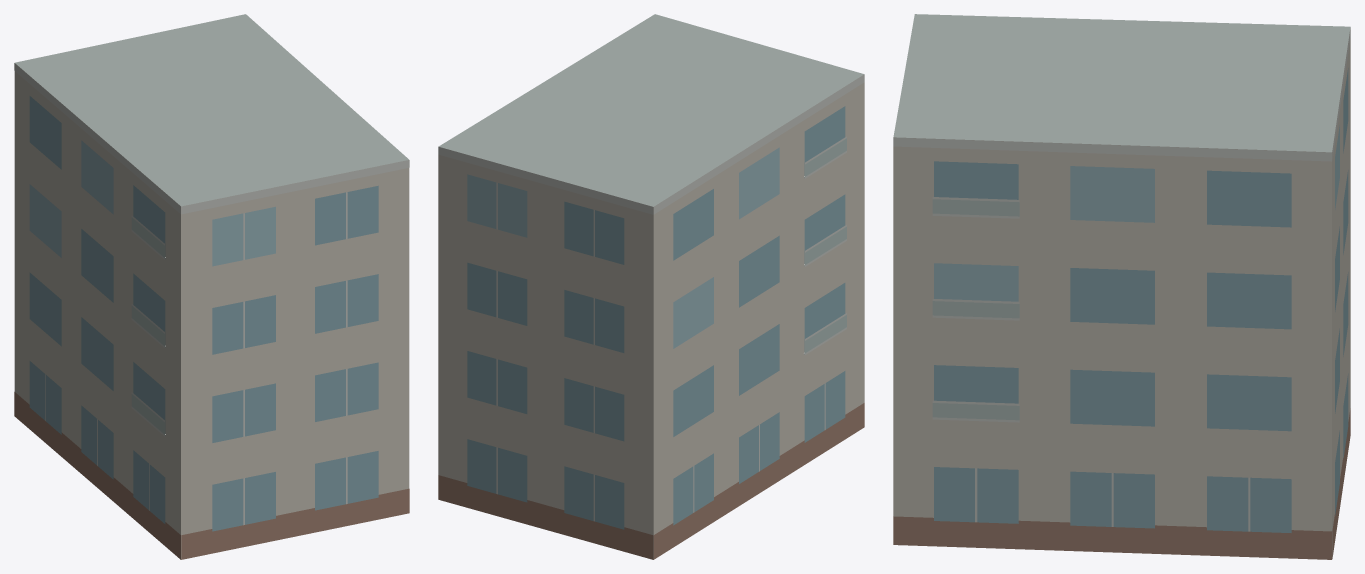
The model's file is survey-upis-32908983.glb.
The picture shows the model from 3 angles, left to right: view 1: azimuth 30°, elevation 25°; view 2: azimuth 150°, elevation 25°; view 3: azimuth 270°, elevation 25°; orthographic projection. The views are drawn at different scales.
Parts seen in each view (by area): view 1: survey-upis-32908983.tmp; view 2: survey-upis-32908983.tmp; view 3: survey-upis-32908983.tmp.
Part boxes in pixels (x1,y1,x2,y2): survey-upis-32908983.tmp: (14,14,409,559); survey-upis-32908983.tmp: (438,14,864,559); survey-upis-32908983.tmp: (893,14,1350,559).
Bounding box in the file's own units: 7.87 × 10.8 × 10.99.
